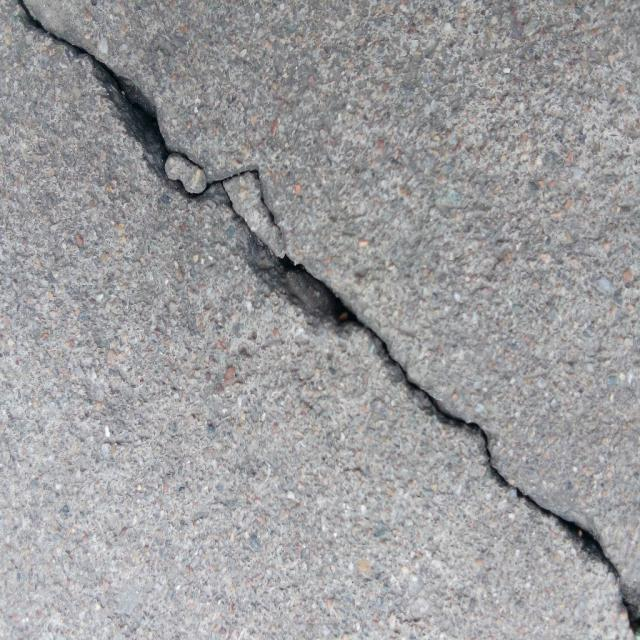cracks: (0, 2, 640, 640)
